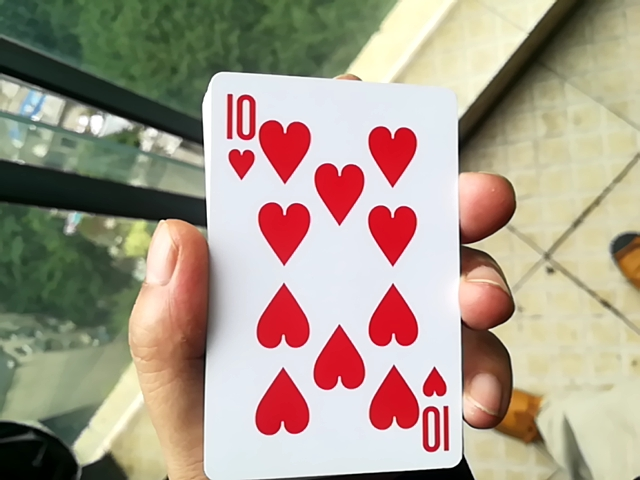hx 10: (192, 57, 455, 476)
